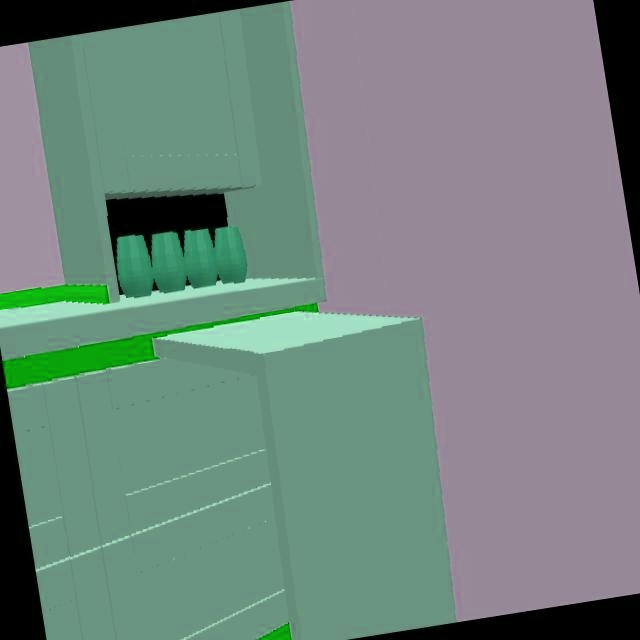cabinet: (27, 1, 327, 332), (7, 359, 292, 640)
countertop: (0, 278, 412, 446)
